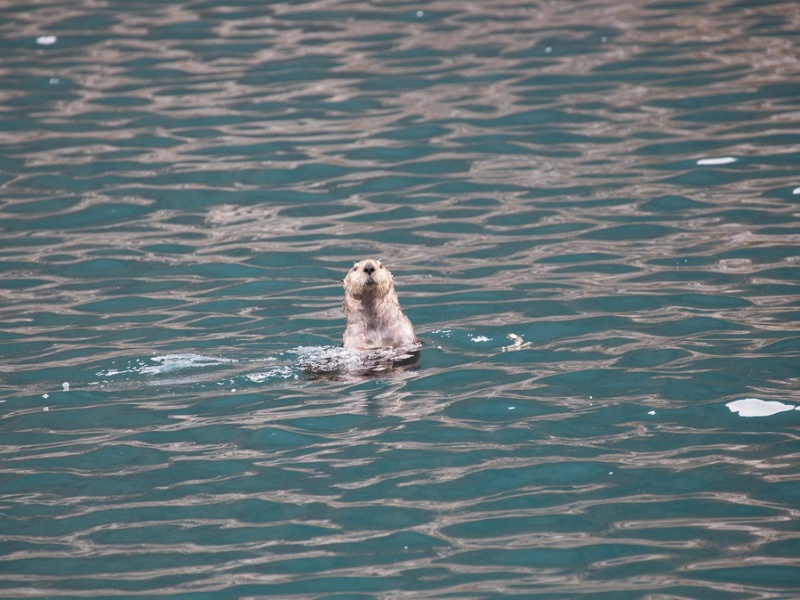minkish: (336, 253, 419, 370)
